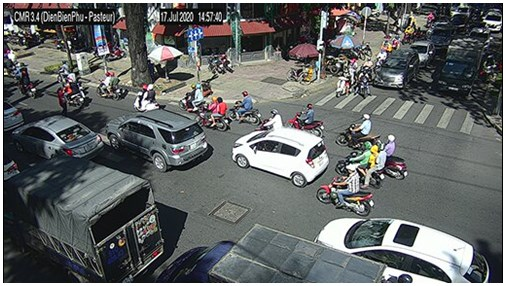xe_hoi: (313, 218, 494, 283), (105, 109, 209, 172), (232, 127, 330, 188), (12, 114, 105, 161), (375, 50, 421, 88), (4, 99, 24, 136), (410, 40, 436, 62), (483, 11, 502, 31)
xe_may: (316, 164, 374, 216), (335, 140, 384, 189), (335, 113, 382, 149), (286, 103, 324, 136), (195, 96, 229, 132), (228, 90, 261, 126), (384, 134, 408, 180), (179, 83, 206, 113), (132, 84, 161, 111), (96, 71, 122, 100), (62, 75, 84, 107), (18, 69, 39, 99), (256, 109, 283, 129), (355, 66, 371, 97), (336, 67, 351, 98), (483, 54, 497, 86), (56, 60, 71, 81), (374, 48, 387, 71), (403, 25, 413, 44), (364, 58, 374, 76), (392, 34, 401, 51), (426, 10, 434, 27)
xe_tai: (4, 158, 165, 283), (155, 223, 386, 283), (438, 38, 483, 96)
